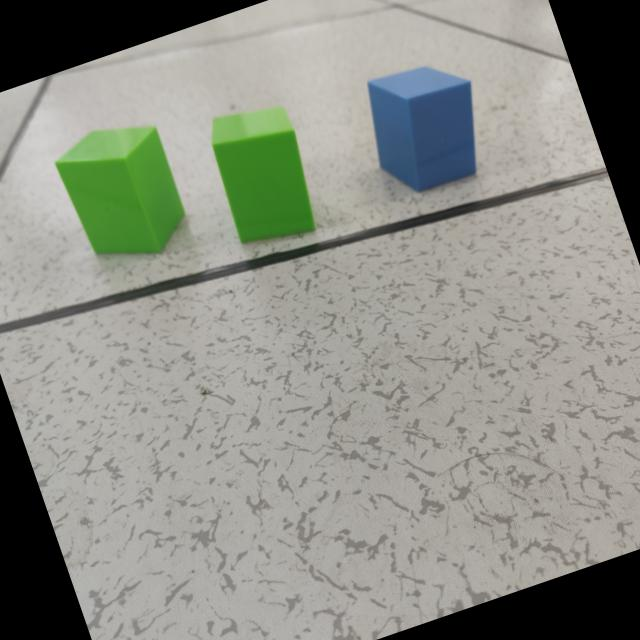blue: (367, 67, 478, 194)
green: (55, 126, 185, 256), (211, 107, 315, 245)
